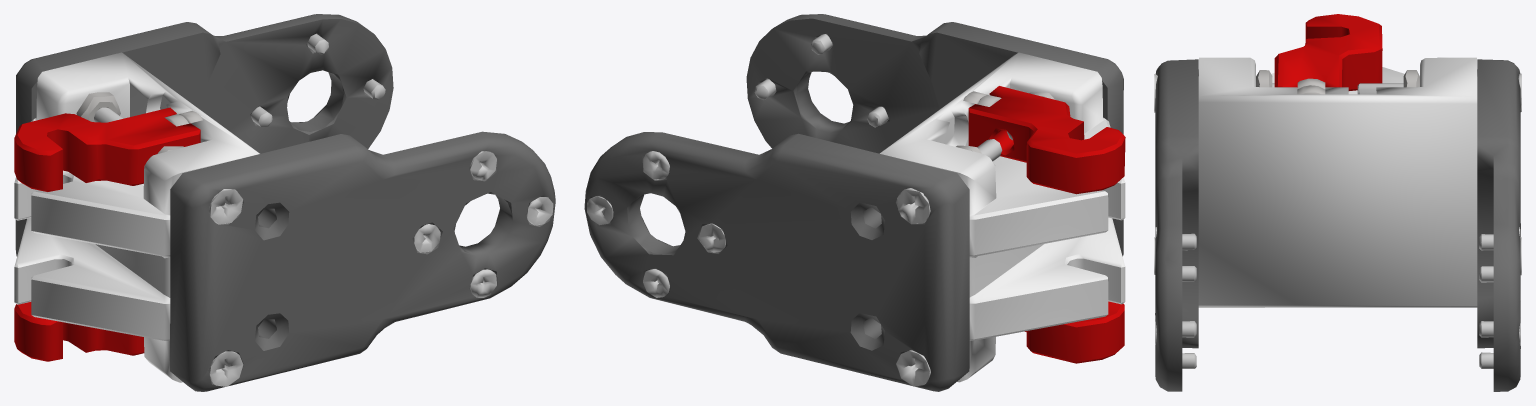
File: link_body_06.obj
The picture shows the model from 3 angles, left to right: view 1: azimuth 30°, elevation 25°; view 2: azimuth 150°, elevation 25°; view 3: azimuth 270°, elevation 25°; orthographic projection.
Parts seen in each view (by area): view 1: link_body_06; view 2: link_body_06; view 3: link_body_06.
Boxes of the visible parts, x1=… form: link_body_06: x1=14, y1=14, x2=555, y2=391; link_body_06: x1=584, y1=14, x2=1125, y2=391; link_body_06: x1=1154, y1=14, x2=1521, y2=391.
Bounding box in the file's own units: 63.92 × 29 × 44.83.
